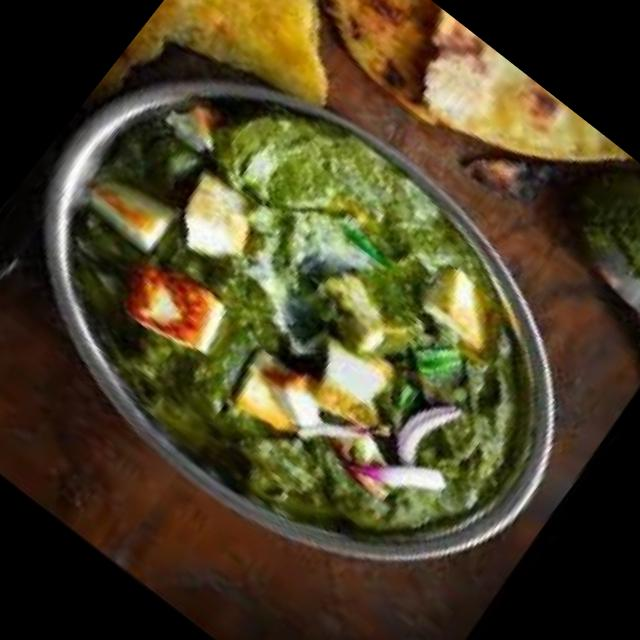palak_paneer: (0, 19, 621, 627)
